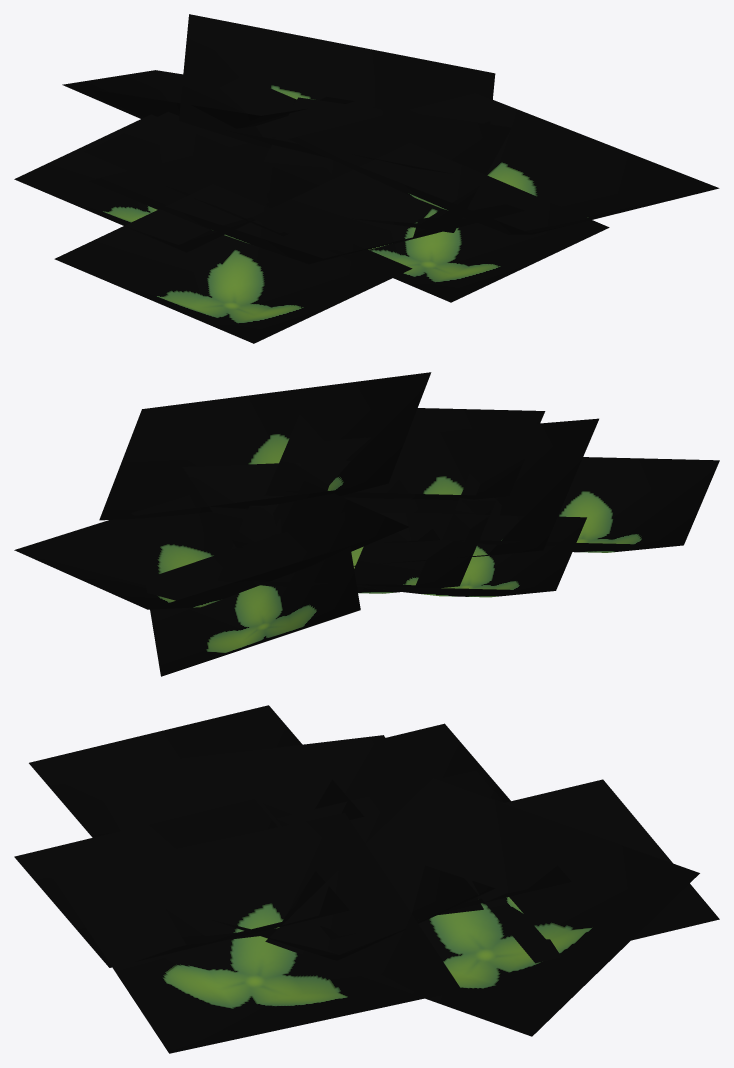
The model's file is Flower01D.glb.
The picture shows the model from 3 angles, top to bottom: view 1: azimuth 30°, elevation 25°; view 2: azimuth 150°, elevation 25°; view 3: azimuth 270°, elevation 25°; orthographic projection. The views are drawn at different scales.
Visible parts, largest first — view 1: stylizedFlower01d; view 2: stylizedFlower01d; view 3: stylizedFlower01d.
Boxes of the visible parts, x1=… form: stylizedFlower01d: x1=14, y1=14, x2=719, y2=343; stylizedFlower01d: x1=14, y1=372, x2=719, y2=676; stylizedFlower01d: x1=14, y1=705, x2=719, y2=1053.
Bounding box in the file's own units: 1.15 × 0.1758 × 1.12.
Materials: 1 (1 with a texture image).
